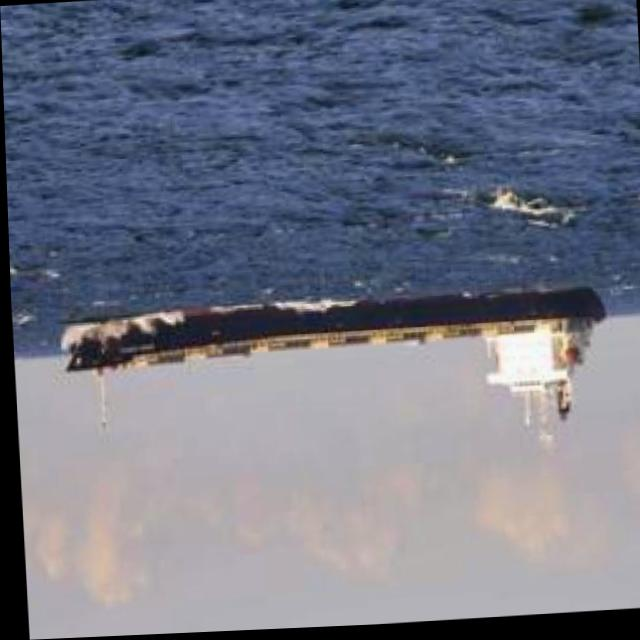ship2: (57, 291, 605, 461)
